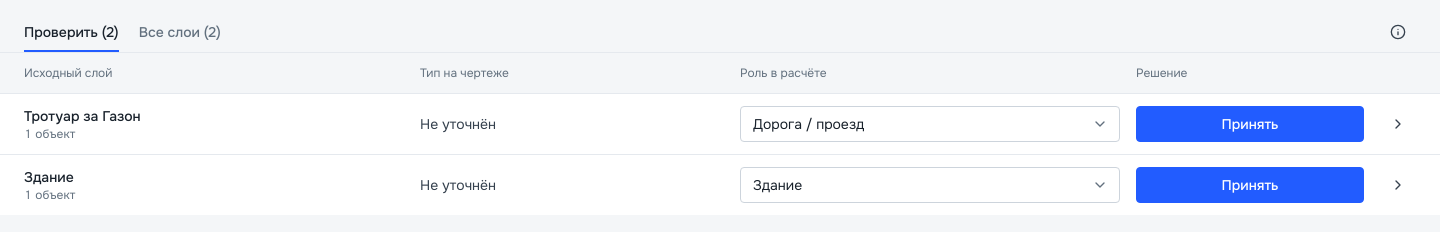
uses one table for review and all, retaining accepted rows until reentering review
Click the button with aria-label "Принять назначение Тротуар за Газон": click(1250, 124) [1136, 106, 1364, 142]
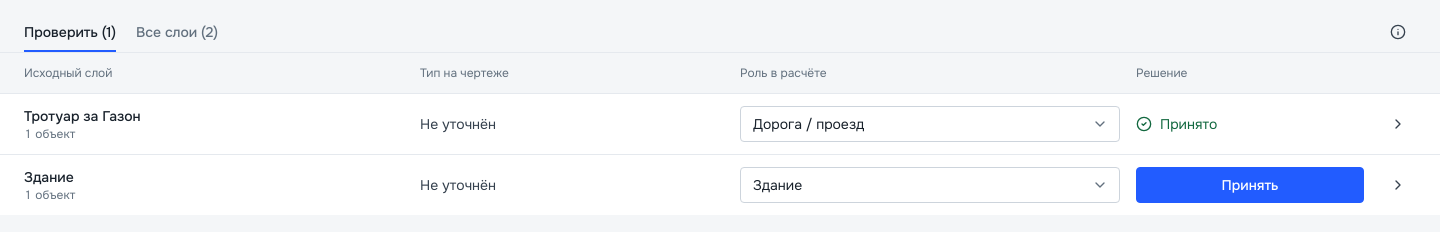
Check: the text "Принято" is shown, box [1136, 115, 1217, 133]
Check: the tab "Проверить (1)" is shown, box [24, 12, 116, 52]
Click the tab "Все слои (2)": click(177, 32) [136, 12, 218, 52]
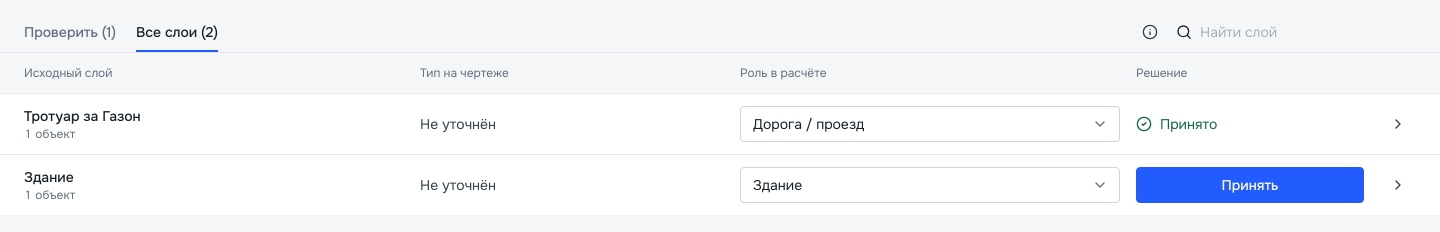
Click the tab "Проверить (1)": click(70, 32) [24, 12, 116, 52]
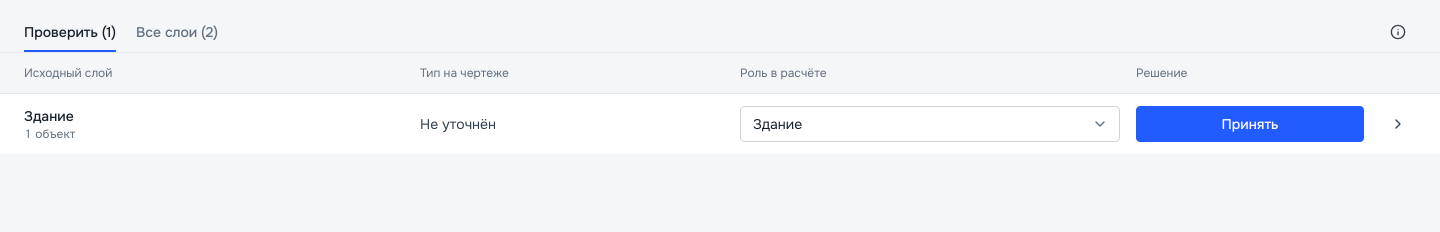
Check: the text "Здание" is shown, box [24, 107, 74, 125]
Check: the text "Тротуар за Газон" is gone
